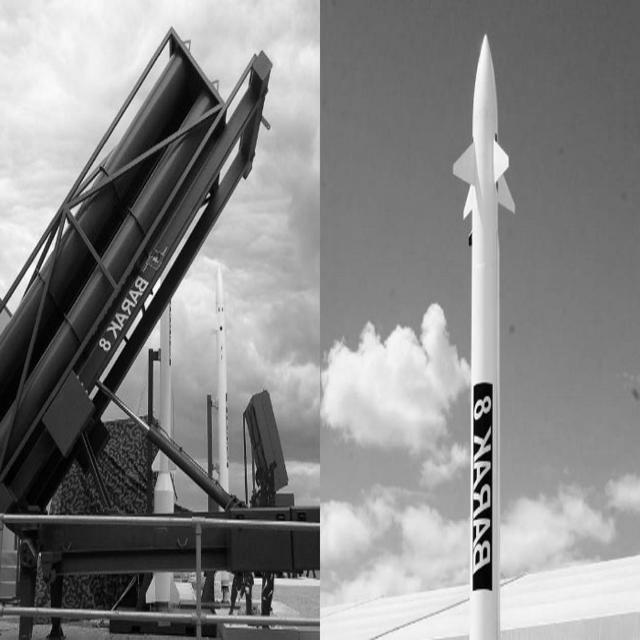missile: (453, 16, 514, 640)
